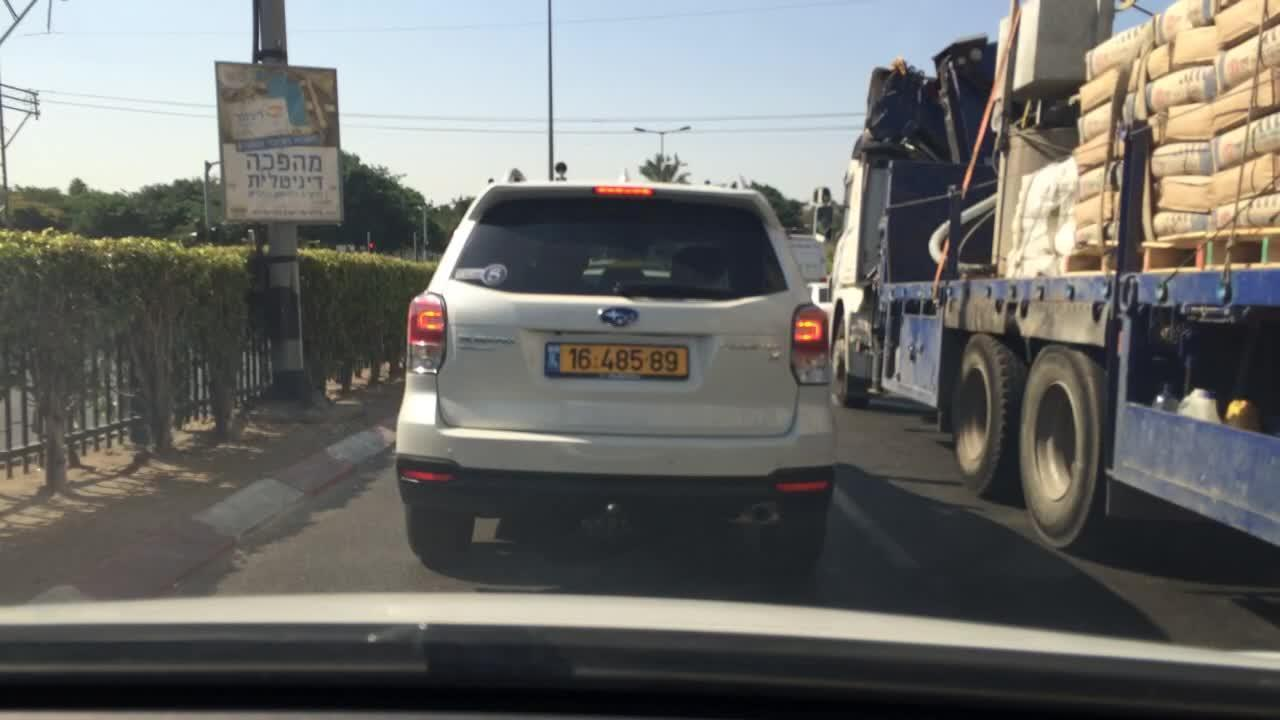ford: (599, 301, 641, 329)
